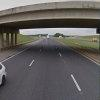Bridge: (4, 0, 99, 45)
